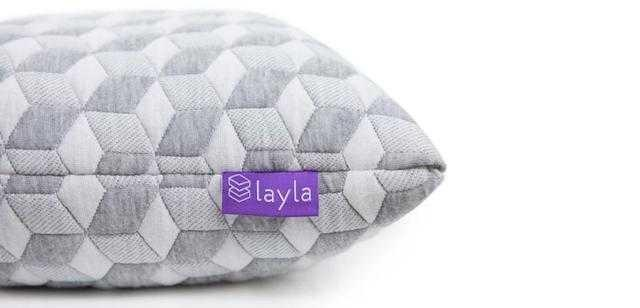pillow: (0, 7, 448, 290)
